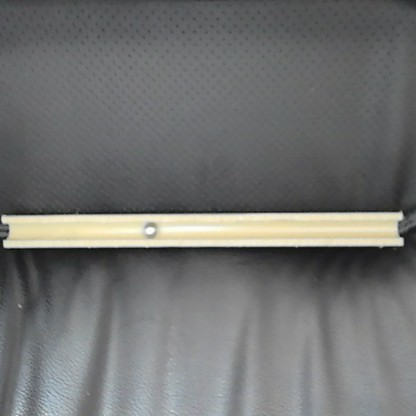ironball: (139, 218, 159, 239)
